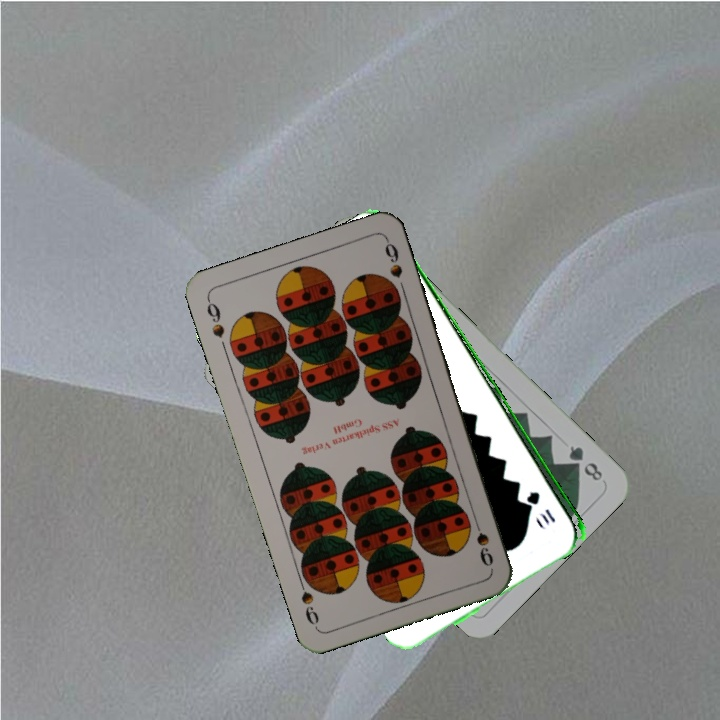G10: (525, 487, 558, 527)
G8: (564, 441, 606, 484)
S9: (469, 512, 496, 570), (203, 294, 227, 341)
